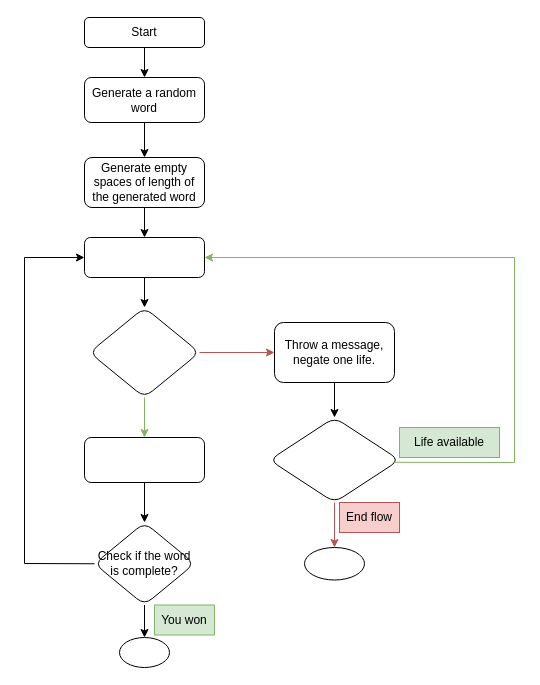
The diagram is 540 pixels wide and 685 high, and some of its shapes have lost their labels. Each missing label, with the centre of its shape:
"Ask the user to guess a letter" goes at pixel 144 257.
"Check if the user is left with more life" goes at pixel 334 459.
"Fill the empty spaces with that character" goes at pixel 144 459.
"Is the guessed letter is in the word>>" goes at pixel 144 352.
